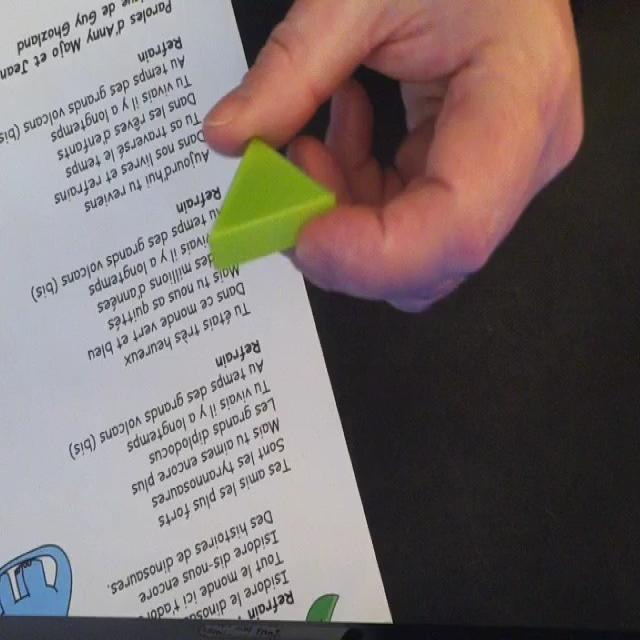triangle: (208, 134, 338, 286)
